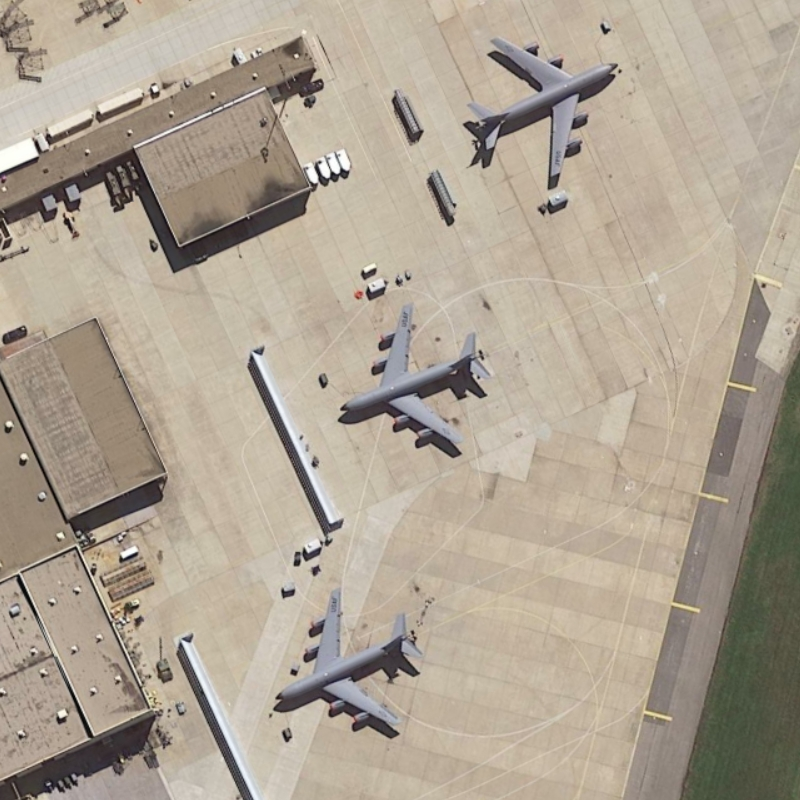A14: (461, 21, 624, 194), (329, 298, 498, 460), (265, 583, 429, 747)
